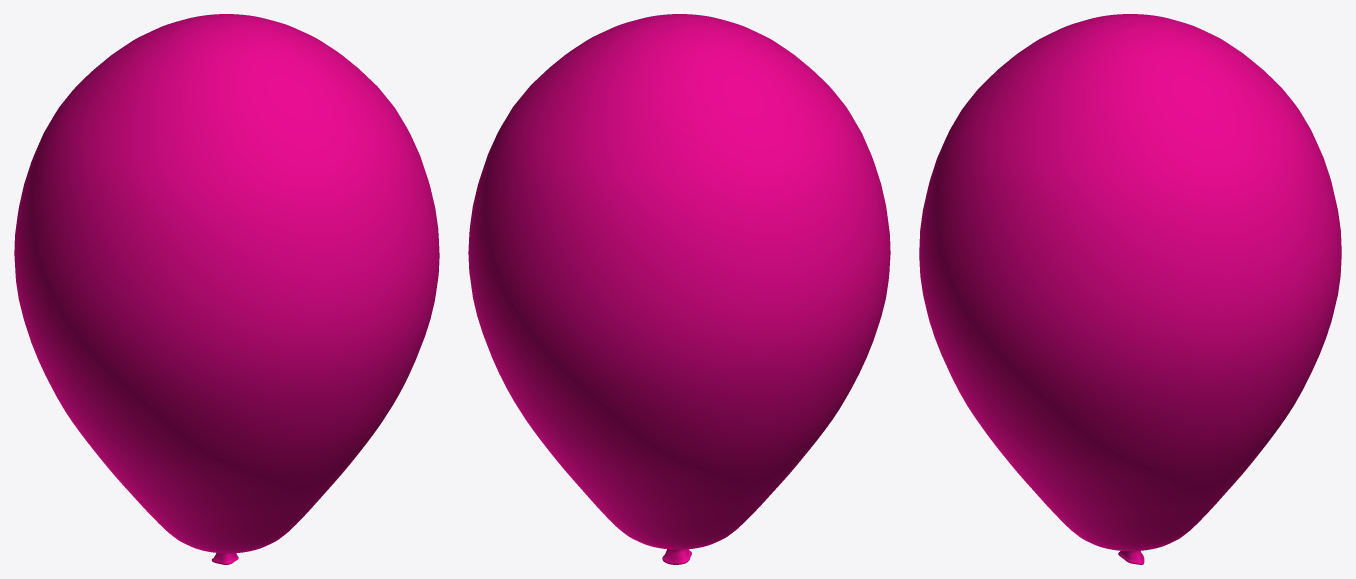
Rendered from 11inch.fbx.
3 renders of one model, left to right at view 1: azimuth 30°, elevation 25°; view 2: azimuth 150°, elevation 25°; view 3: azimuth 270°, elevation 25°, orthographic.
Parts seen in each view (by area): view 1: 11inch-tied.001; view 2: 11inch-tied.001; view 3: 11inch-tied.001.
Boxes of the visible parts, x1,y1,x2,y2 form: 11inch-tied.001: (14,14,439,564); 11inch-tied.001: (468,14,890,564); 11inch-tied.001: (919,14,1341,564).
Bounding box in the file's own units: 28.01 × 38.98 × 28.01.
